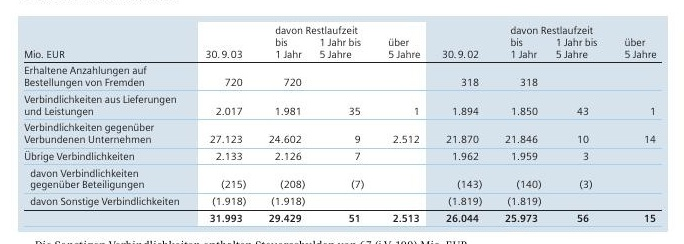table: (0, 0, 684, 244)
